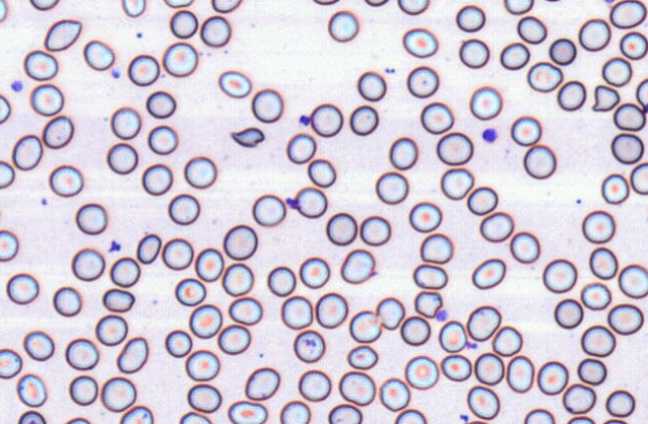PLT: (481, 127, 498, 145), (10, 78, 24, 91), (435, 309, 450, 321), (108, 242, 121, 254), (299, 113, 310, 127), (285, 196, 296, 208), (110, 69, 120, 78)
RBC: (100, 376, 136, 412), (338, 370, 375, 405), (466, 305, 501, 341), (436, 131, 473, 165), (340, 248, 375, 283), (542, 258, 577, 293), (162, 41, 197, 76), (223, 224, 257, 260), (244, 367, 280, 400), (116, 336, 148, 373), (71, 247, 105, 281), (404, 355, 438, 389), (581, 209, 615, 243), (189, 303, 222, 338), (523, 144, 556, 179), (607, 303, 643, 335), (315, 292, 347, 328), (466, 385, 499, 419), (280, 295, 313, 329), (49, 164, 83, 197), (469, 86, 502, 120), (310, 103, 343, 137), (580, 325, 615, 357), (251, 88, 283, 123), (440, 167, 473, 200), (30, 83, 63, 116), (183, 155, 216, 188), (420, 101, 453, 134), (578, 18, 611, 51), (375, 171, 408, 204), (252, 193, 285, 226), (65, 338, 99, 370), (185, 349, 219, 381), (471, 257, 505, 289), (527, 61, 562, 92), (537, 360, 568, 395), (23, 49, 58, 80), (12, 134, 42, 170), (349, 310, 381, 343), (293, 329, 325, 362), (161, 237, 193, 270), (298, 369, 331, 401), (6, 272, 39, 304), (610, 132, 643, 164), (294, 186, 327, 218), (406, 65, 438, 98), (379, 377, 410, 411), (222, 262, 253, 296), (562, 383, 596, 414), (408, 201, 442, 232), (419, 232, 453, 263), (479, 211, 513, 242), (402, 27, 437, 57), (609, 0, 646, 28), (506, 355, 534, 392), (106, 142, 138, 174), (168, 193, 200, 225), (75, 202, 107, 234), (127, 54, 159, 86), (42, 115, 73, 148), (473, 352, 504, 385), (110, 106, 141, 139), (326, 212, 357, 245), (16, 373, 46, 407), (187, 383, 221, 413), (375, 296, 405, 330), (618, 263, 647, 298), (195, 247, 224, 282), (95, 314, 127, 345), (141, 163, 172, 195), (327, 10, 358, 42), (509, 231, 540, 263), (299, 256, 330, 288), (217, 324, 250, 354), (228, 296, 262, 325), (388, 136, 417, 170), (109, 256, 140, 287), (491, 325, 522, 356), (510, 115, 541, 146), (83, 39, 114, 70), (286, 132, 316, 164), (200, 15, 230, 47), (589, 246, 618, 279), (601, 56, 632, 86), (23, 330, 54, 360), (458, 38, 489, 68), (359, 215, 390, 245), (613, 102, 645, 131), (218, 70, 251, 98), (227, 400, 267, 423), (412, 263, 447, 289), (68, 375, 98, 405), (400, 315, 430, 345), (147, 124, 177, 154), (174, 277, 205, 306), (516, 15, 547, 44), (466, 186, 497, 215), (557, 80, 586, 111), (580, 281, 611, 310), (267, 265, 296, 296), (349, 104, 378, 135), (438, 320, 466, 352), (554, 298, 583, 328), (357, 71, 386, 101), (601, 173, 629, 204), (307, 158, 336, 187), (169, 9, 198, 38), (53, 286, 81, 316), (146, 90, 176, 118), (499, 42, 529, 70), (605, 389, 635, 417), (455, 4, 485, 32), (440, 354, 471, 381), (619, 31, 647, 60), (577, 357, 606, 385), (164, 329, 192, 357), (136, 233, 161, 264), (346, 344, 377, 369), (102, 288, 134, 312), (549, 37, 576, 65), (279, 400, 310, 423), (327, 403, 362, 423), (0, 348, 22, 378), (119, 405, 153, 423), (0, 229, 18, 261), (630, 162, 647, 194), (394, 408, 426, 423), (397, 0, 429, 15), (523, 408, 554, 423), (503, 0, 533, 14), (121, 0, 145, 17), (0, 160, 14, 188), (211, 0, 241, 13), (179, 411, 211, 423), (17, 410, 46, 423), (636, 78, 647, 110), (0, 93, 10, 123), (29, 0, 59, 10), (163, 0, 193, 8), (566, 415, 595, 423), (64, 416, 90, 423), (363, 0, 389, 6), (0, 0, 7, 22), (312, 0, 339, 5), (602, 418, 627, 423), (465, 419, 488, 423), (0, 199, 3, 224), (542, 0, 563, 2)
Schistocyte: (230, 126, 266, 147), (592, 85, 620, 112), (414, 292, 444, 316)
